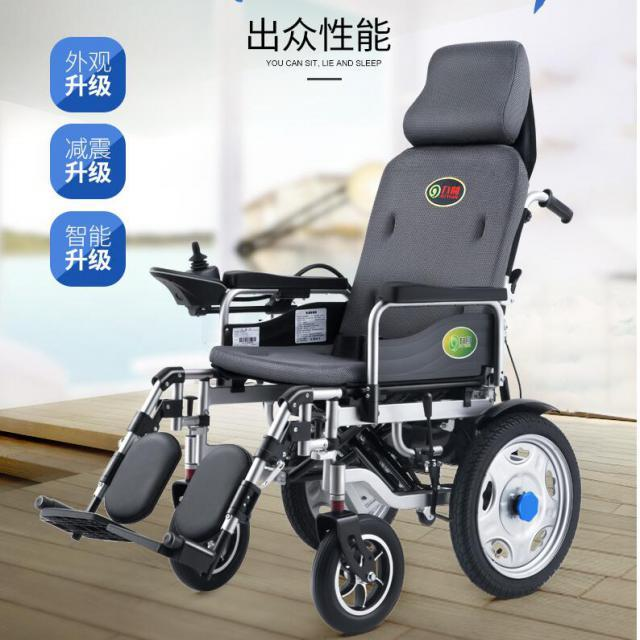wheelchair: (26, 34, 568, 638)
